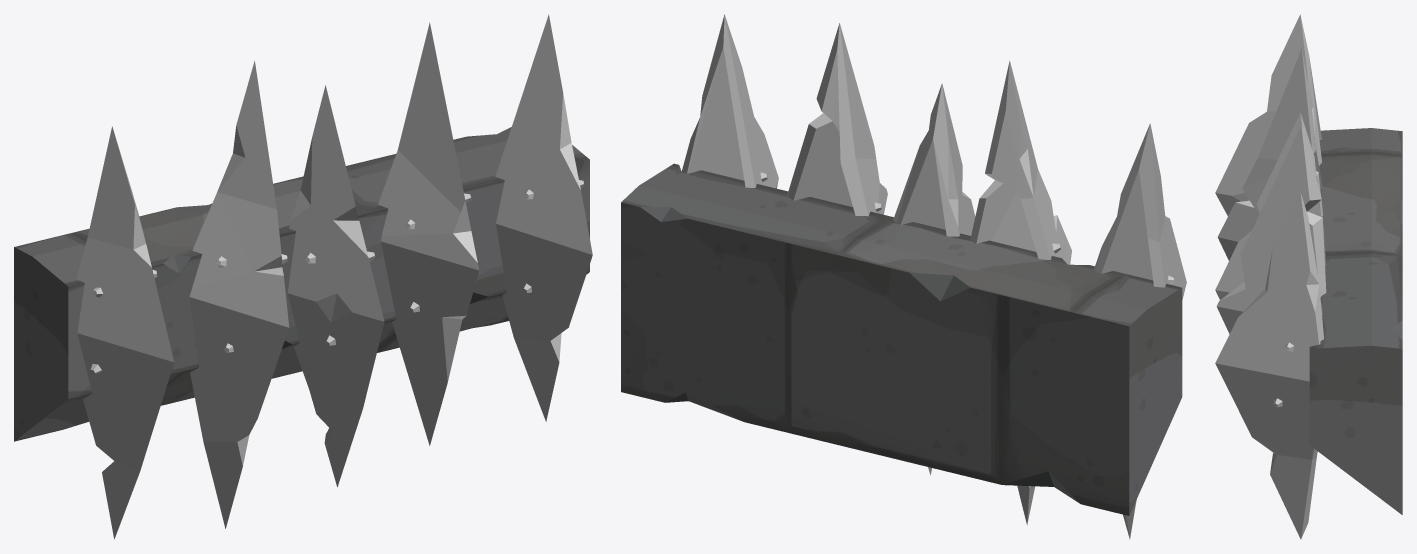
The model's file is SM_Bld_Battlements_03.fbx.
3 renders of one model, left to right at view 1: azimuth 30°, elevation 25°; view 2: azimuth 150°, elevation 25°; view 3: azimuth 270°, elevation 25°, orthographic. The views are drawn at different scales.
Visible parts, largest first — view 1: SM_Bld_Battlements_03; view 2: SM_Bld_Battlements_03; view 3: SM_Bld_Battlements_03.
Part boxes in pixels (bbox=[...]): SM_Bld_Battlements_03: bbox=[14, 14, 592, 539]; SM_Bld_Battlements_03: bbox=[621, 14, 1186, 539]; SM_Bld_Battlements_03: bbox=[1215, 14, 1402, 539].
Bounding box in the file's own units: 500 × 429 × 182.
